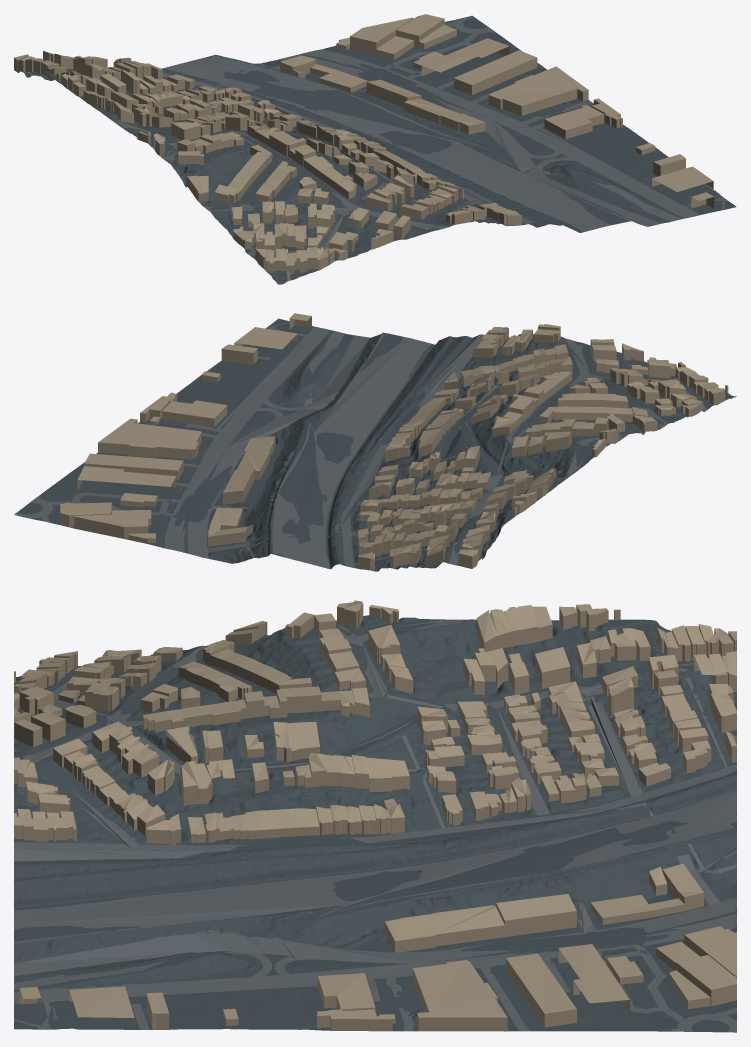
File: epsg26910-1438-10879.lod0.glb
The picture shows the model from 3 angles, top to bottom: view 1: azimuth 30°, elevation 25°; view 2: azimuth 150°, elevation 25°; view 3: azimuth 270°, elevation 25°; orthographic projection. The views are drawn at different scales.
Parts seen in each view (by area): view 1: epsg26910-1438-10879-lod0; view 2: epsg26910-1438-10879-lod0; view 3: epsg26910-1438-10879-lod0.
Boxes of the visible parts, left/top/right/bottom form: epsg26910-1438-10879-lod0: left=14, top=14, right=736, bottom=284; epsg26910-1438-10879-lod0: left=14, top=313, right=736, bottom=571; epsg26910-1438-10879-lod0: left=14, top=600, right=736, bottom=1032.
Size of the model in its own units: 384 by 74.88 by 384.
